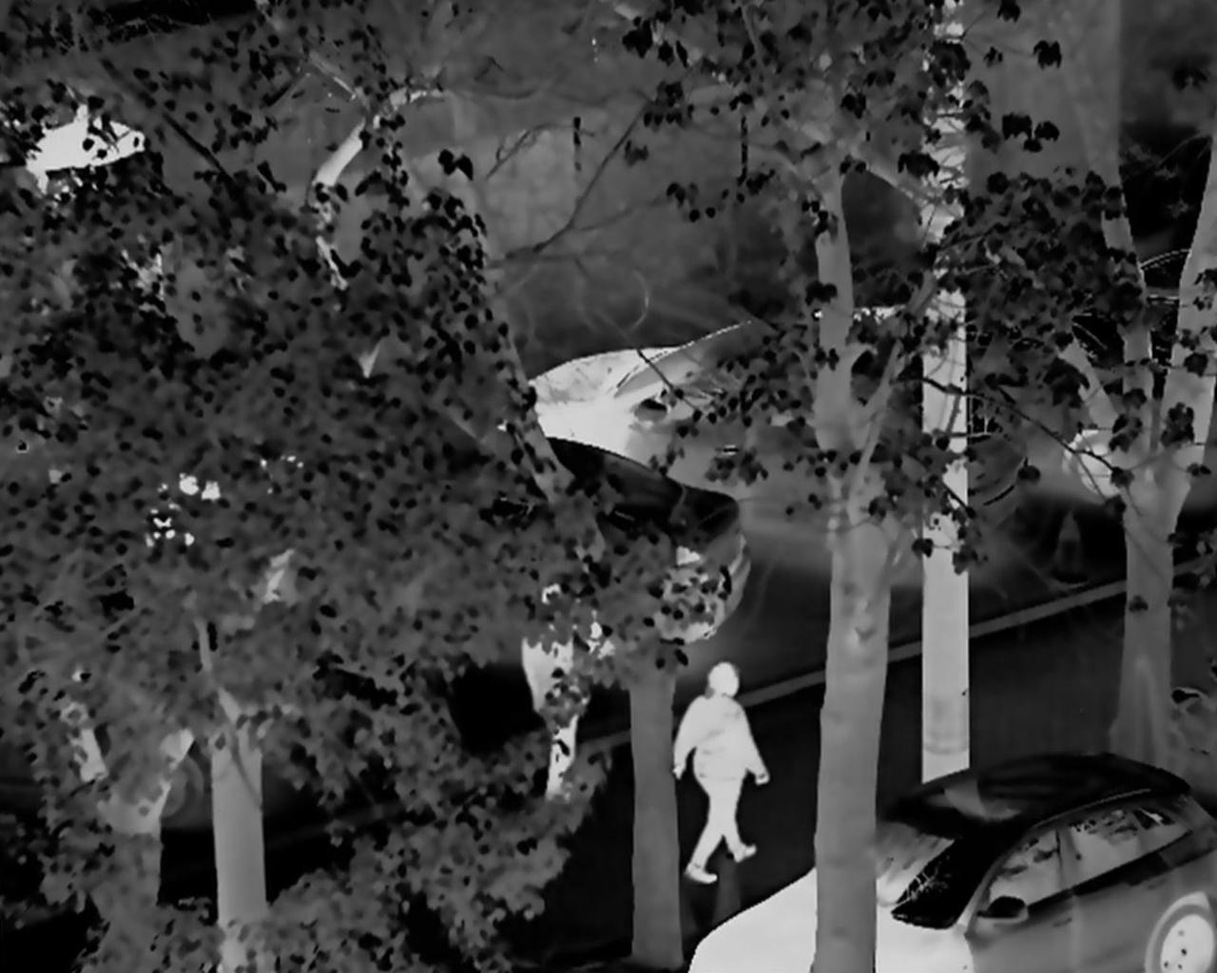person: (670, 650, 775, 894), (521, 583, 608, 829)
